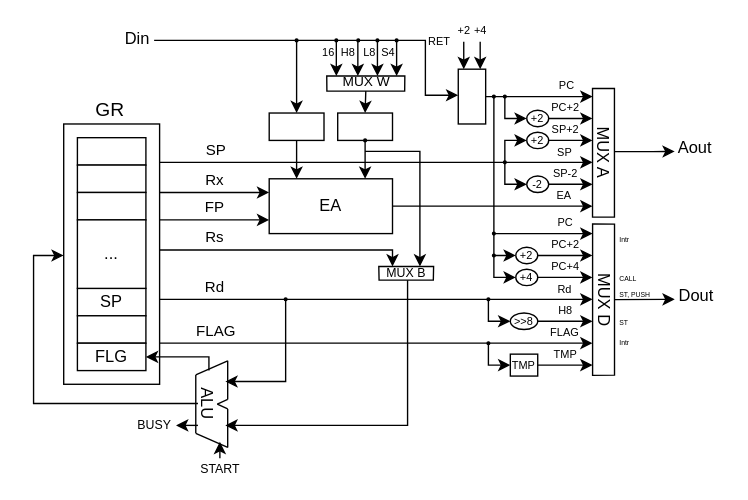
This 748x500 diagram has some shape labels left out. The centre of each missing label's shape, as x and y in pixels:
DR: the point at 364,126
G0: the point at 111,150
G1: the point at 111,178
G2: the point at 111,205
IR: the point at 296,126
P C: the point at 471,96
USP: the point at 111,328
